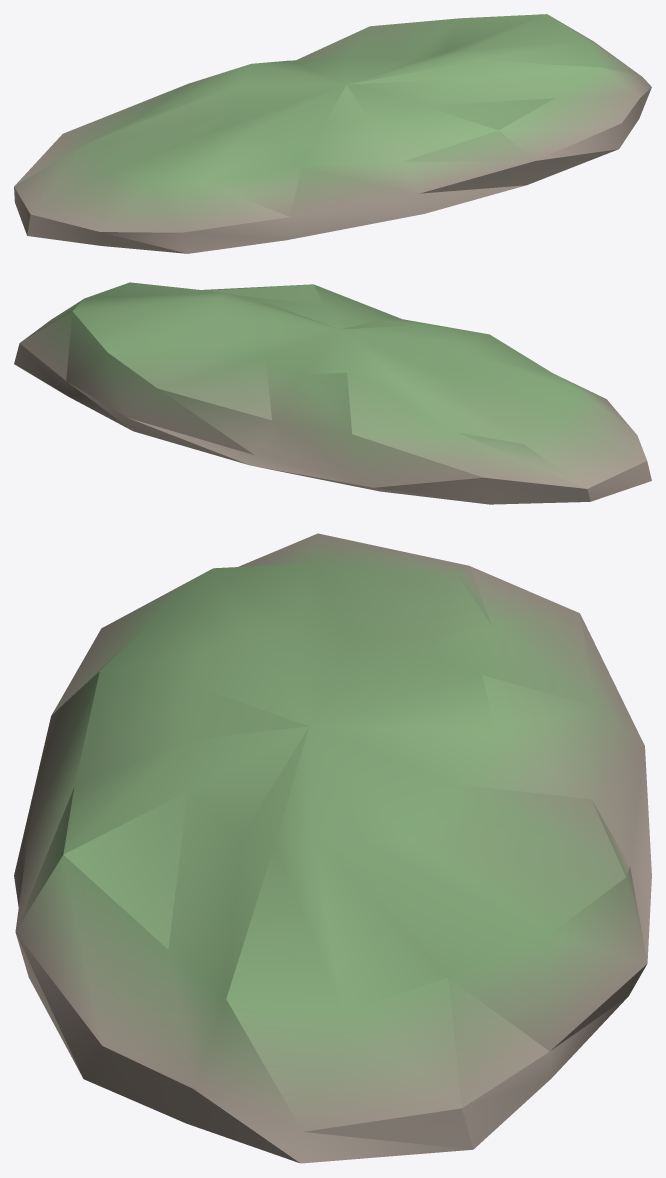
The model's file is distant_island.glb.
The picture shows the model from 3 angles, top to bottom: view 1: azimuth 30°, elevation 25°; view 2: azimuth 150°, elevation 25°; view 3: azimuth 270°, elevation 25°; orthographic projection. The views are drawn at different scales.
Parts seen in each view (by area): view 1: body; view 2: body; view 3: body.
Part boxes in pixels (x1=…): body: x1=14, y1=14, x2=651, y2=253; body: x1=14, y1=282, x2=651, y2=504; body: x1=14, y1=533, x2=651, y2=1163.
Size of the model in its own units: 118 by 14.22 by 53.54.
